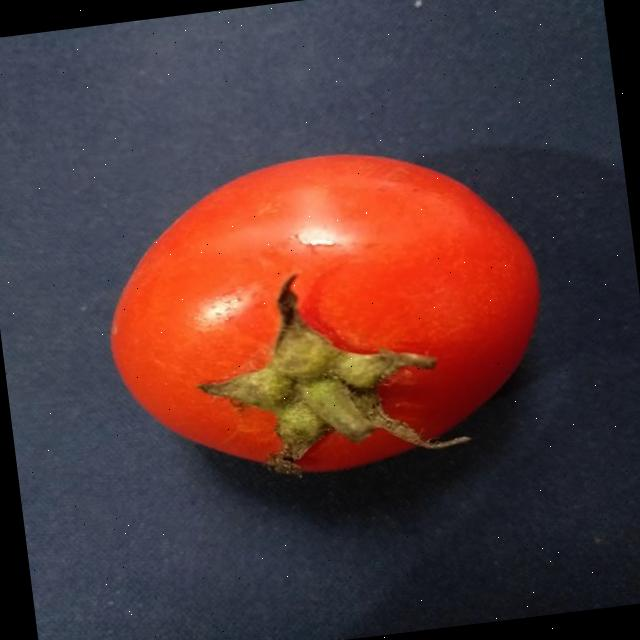tomato: (61, 112, 574, 544)
